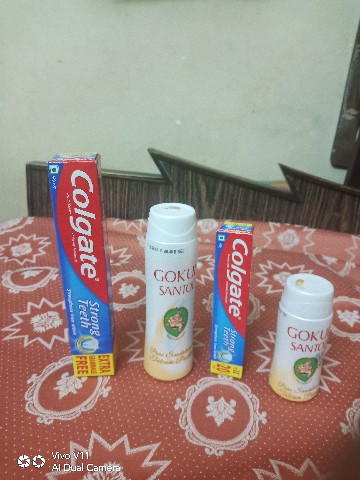colgatetoothpaste big: (42, 152, 130, 389)
colgatetoothpaste small: (202, 207, 257, 388)
gokulsantol big: (135, 194, 200, 383)
gokulsantol small: (262, 250, 336, 410)
